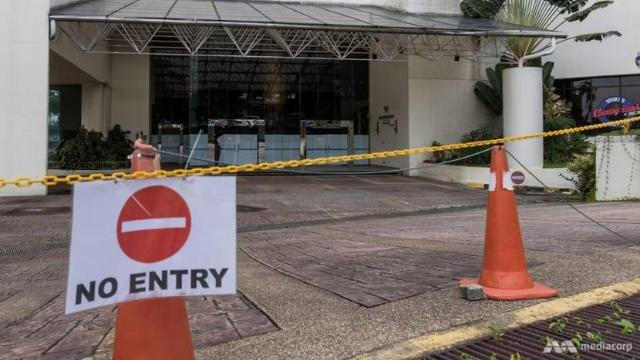B2: (118, 185, 192, 265)
